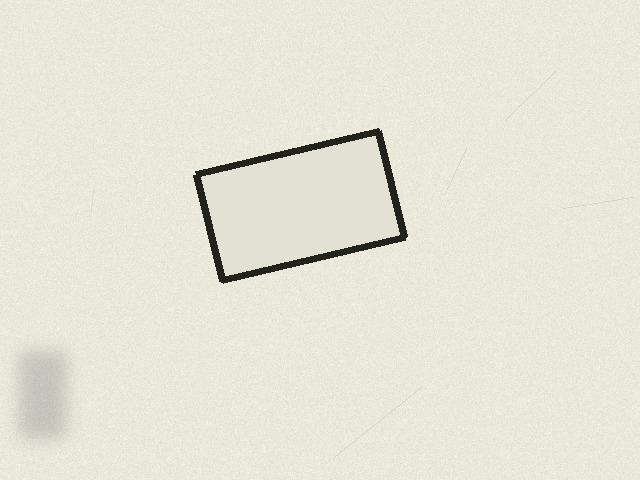parking_area: (196, 131, 404, 280)
